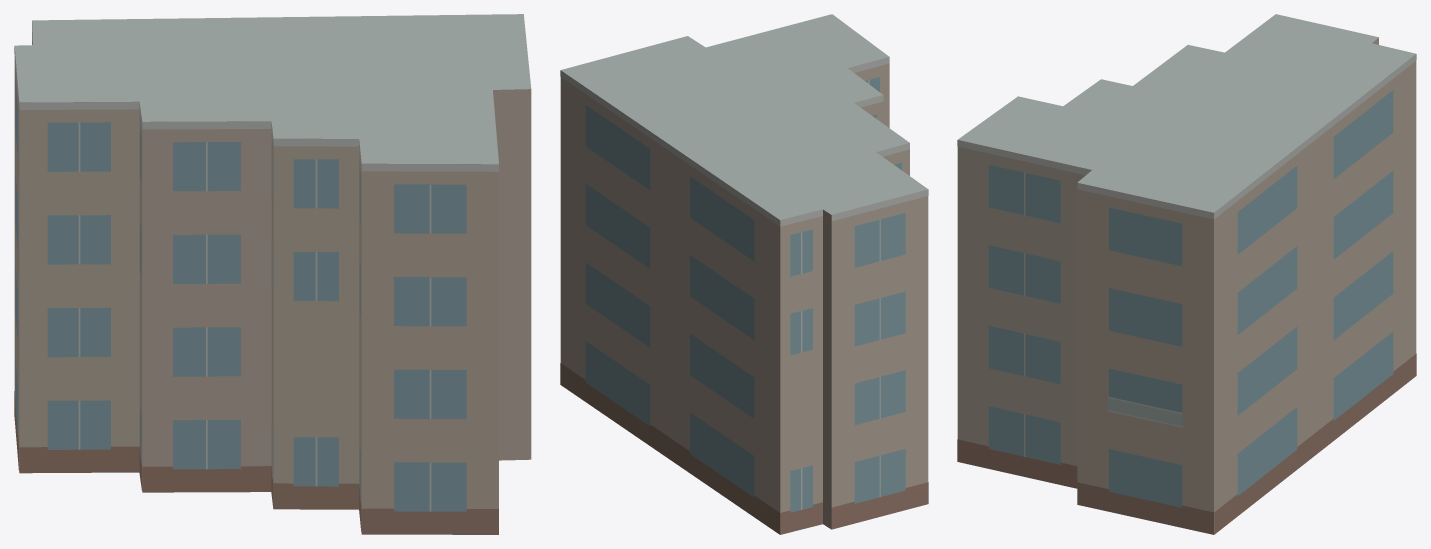
Rendered from survey-upis-32492552.glb.
The picture shows the model from 3 angles, left to right: view 1: azimuth 30°, elevation 25°; view 2: azimuth 150°, elevation 25°; view 3: azimuth 270°, elevation 25°; orthographic projection. The views are drawn at different scales.
Parts seen in each view (by area): view 1: survey-upis-32492552.tmp; view 2: survey-upis-32492552.tmp; view 3: survey-upis-32492552.tmp.
Boxes of the visible parts, bbox=[...] form: survey-upis-32492552.tmp: bbox=[14, 14, 531, 534]; survey-upis-32492552.tmp: bbox=[560, 14, 928, 534]; survey-upis-32492552.tmp: bbox=[957, 14, 1416, 534].
Bounding box in the file's own units: 15.63 × 11.8 × 15.25.
